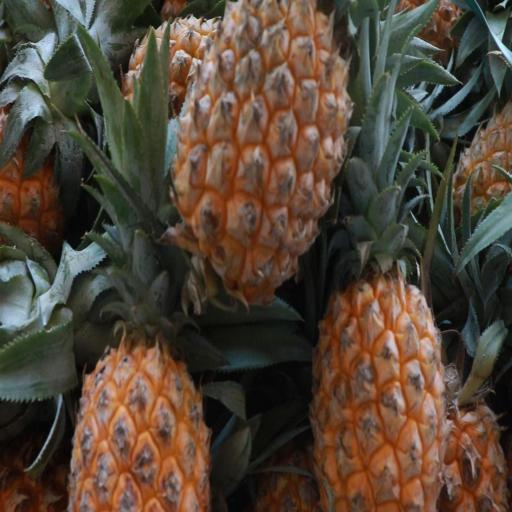Pineapple - v8 v1: (162, 0, 356, 310), (306, 151, 452, 512), (67, 275, 217, 512), (427, 336, 510, 512)
